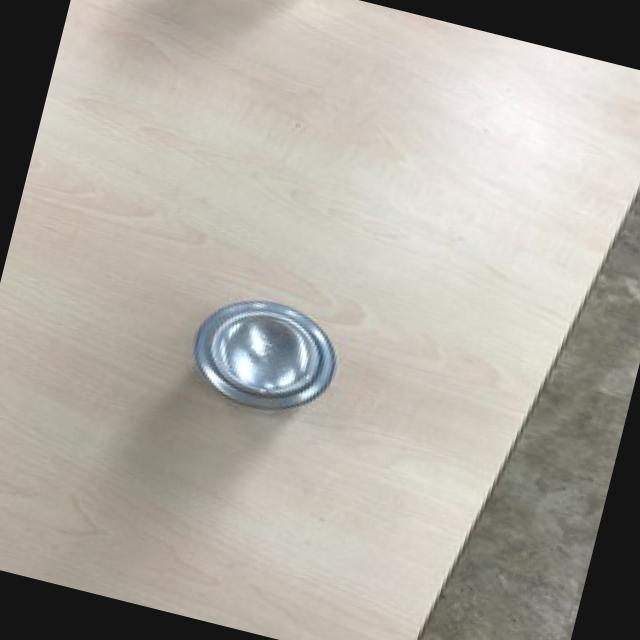can: (180, 278, 352, 431)
